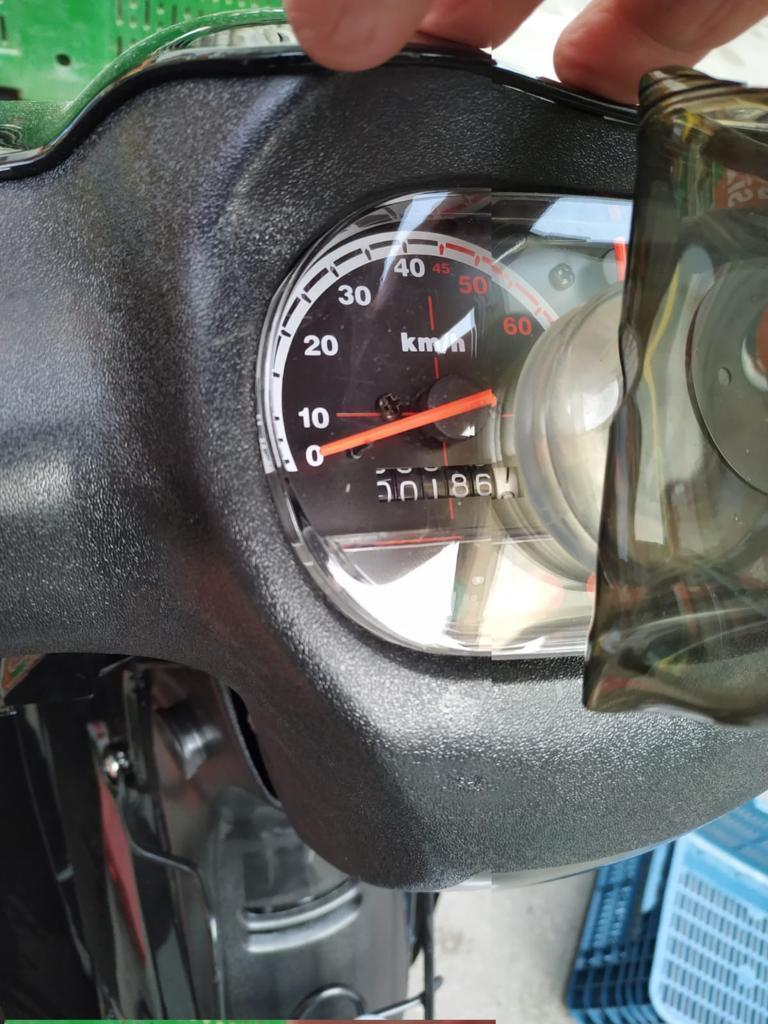0: (399, 479, 419, 506), (373, 481, 393, 508)
1: (430, 477, 439, 501)
6: (474, 472, 492, 497)
7: (495, 461, 511, 485)
8: (450, 473, 469, 498)
odometer: (373, 463, 524, 504)
